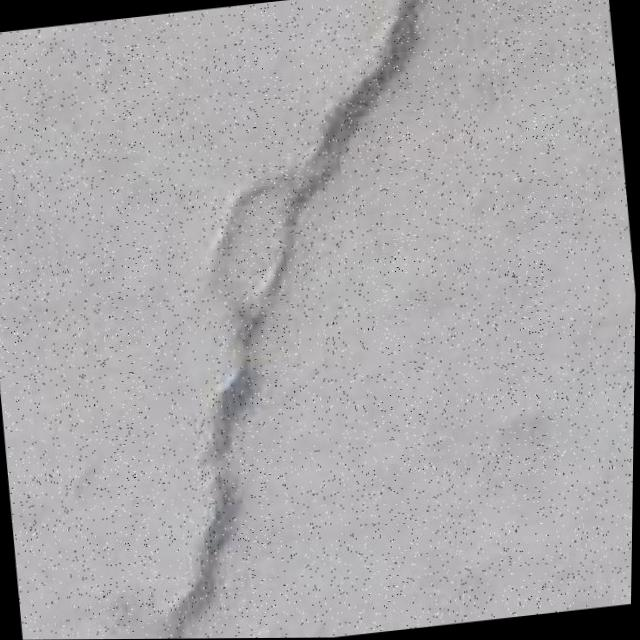Crack: (65, 0, 496, 640)
